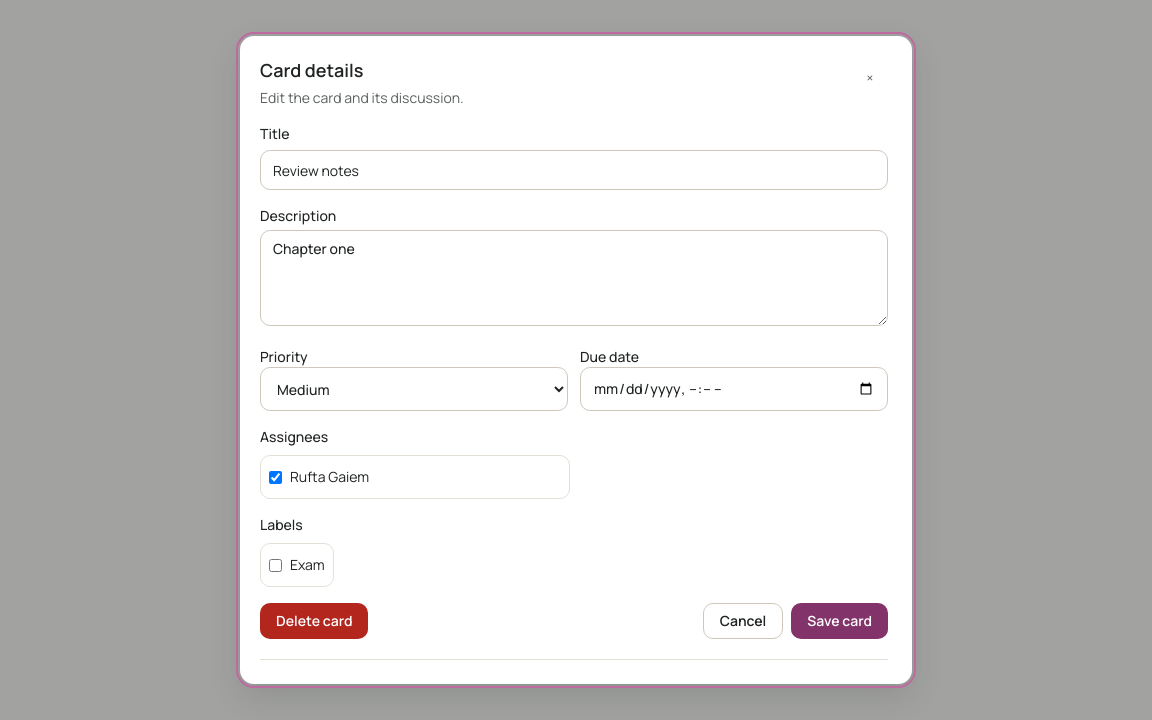
BoardCardDialog › TC-TASK-02: maps API validation errors and offers delete only to an allowed author
This screenshot has width=1152, height=720.
Expected: the field showing "Review notes" is shown, x1=260 y1=150 x2=888 y2=190
Expected: the button "Delete card" is shown, x1=260 y1=603 x2=368 y2=639
What coordinates should you click on to do the following:
click the button "Save card"
I would click on:
 (840, 621)
Its box is x1=791 y1=603 x2=888 y2=639.
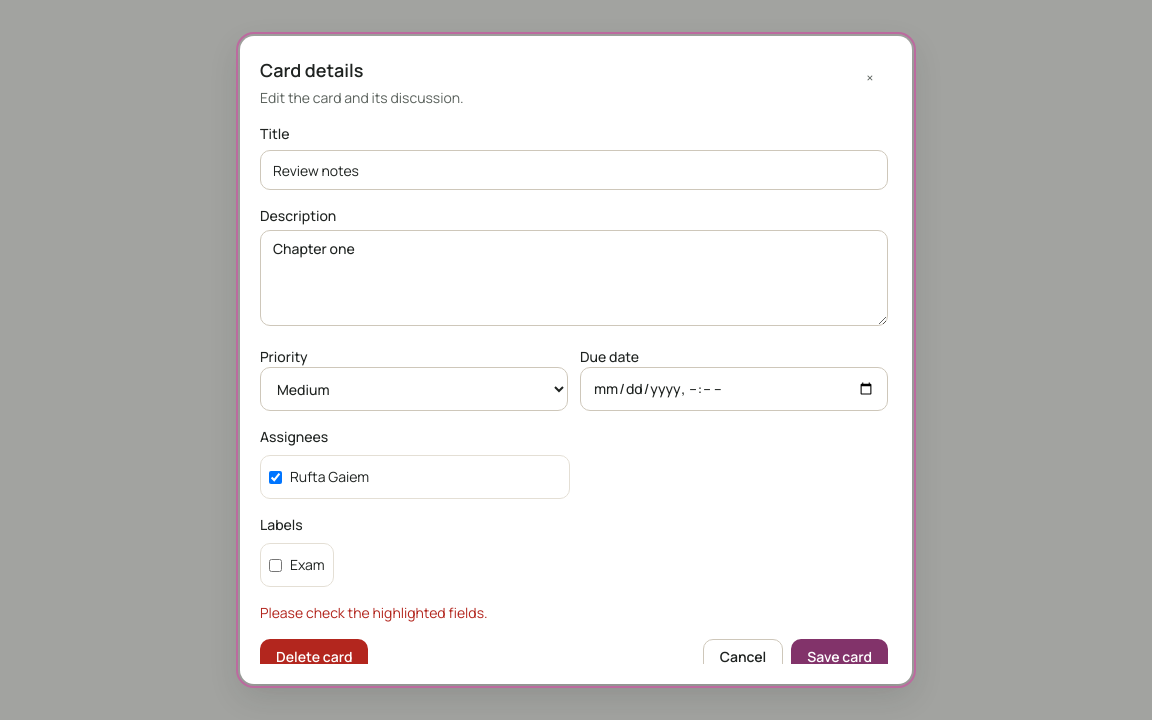
Now the message "Please check the highlighted fields." is shown, box x1=260 y1=603 x2=488 y2=622
